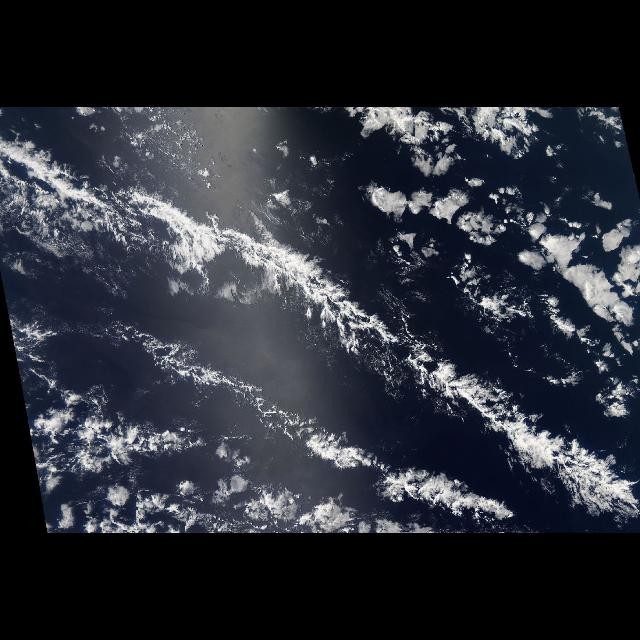Fish: (1, 134, 639, 530)
Flower: (341, 116, 639, 360), (42, 475, 360, 533)
